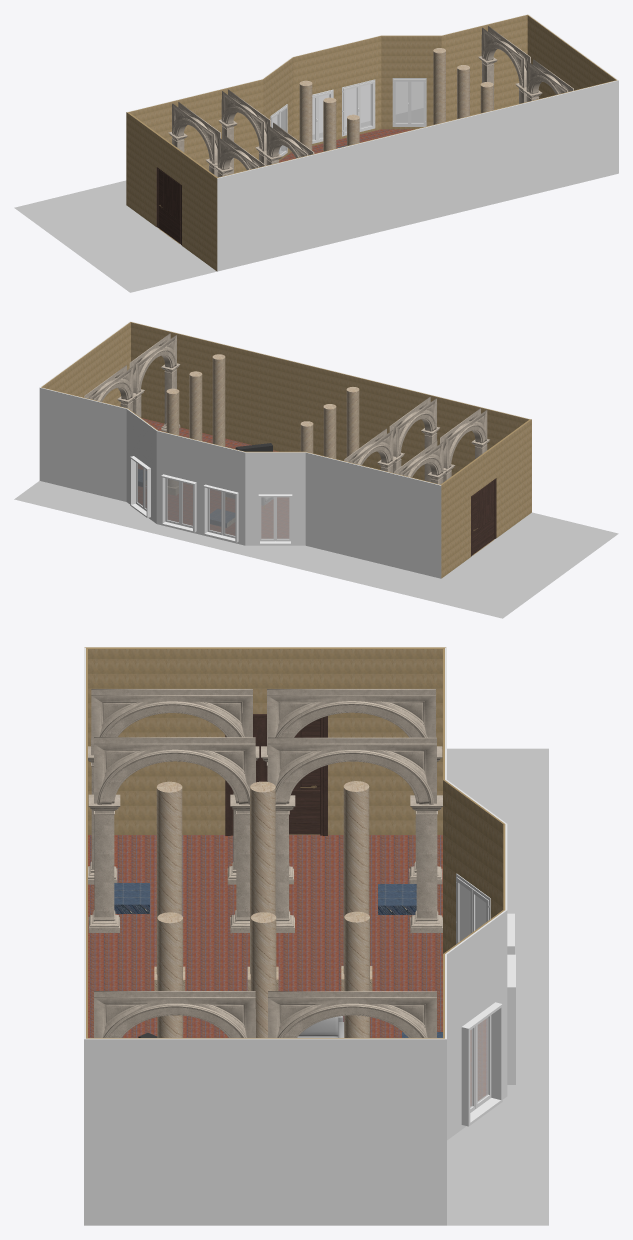
The model's file is museum.dae.
3 views of the same model, one above another, from view 1: azimuth 30°, elevation 25°; view 2: azimuth 150°, elevation 25°; view 3: azimuth 270°, elevation 25° (orthographic). The views are drawn at different scales.
Parts seen in each view (by area): view 1: Museum1; view 2: Museum1; view 3: Museum1.
Part boxes in pixels (left/top/right/bottom): Museum1: left=14, top=14, right=618, bottom=292; Museum1: left=14, top=321, right=618, bottom=618; Museum1: left=84, top=647, right=548, bottom=1225.
Bounding box in the file's own units: 21.97 × 9.05 × 4.3.
29 materials, 17 textured.
